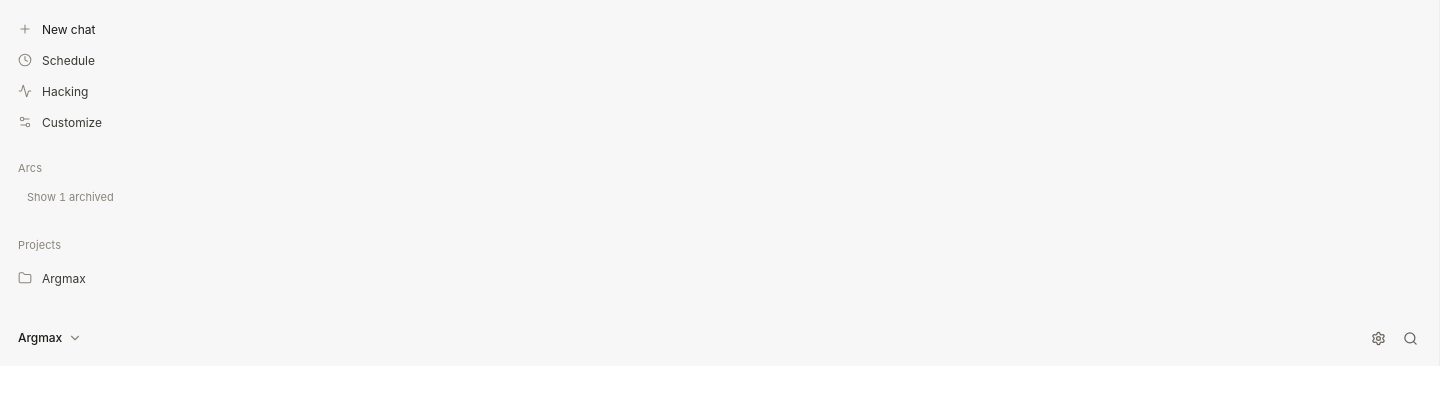
Scenario: Sidebar — Arcs section › keeps archived arcs behind a toggle at the foot of the list
expect the button "Pricing rollout" is not shown: met
Click the button "Show 1 archived": (70, 197) x1=14 y1=186 x2=1425 y2=210
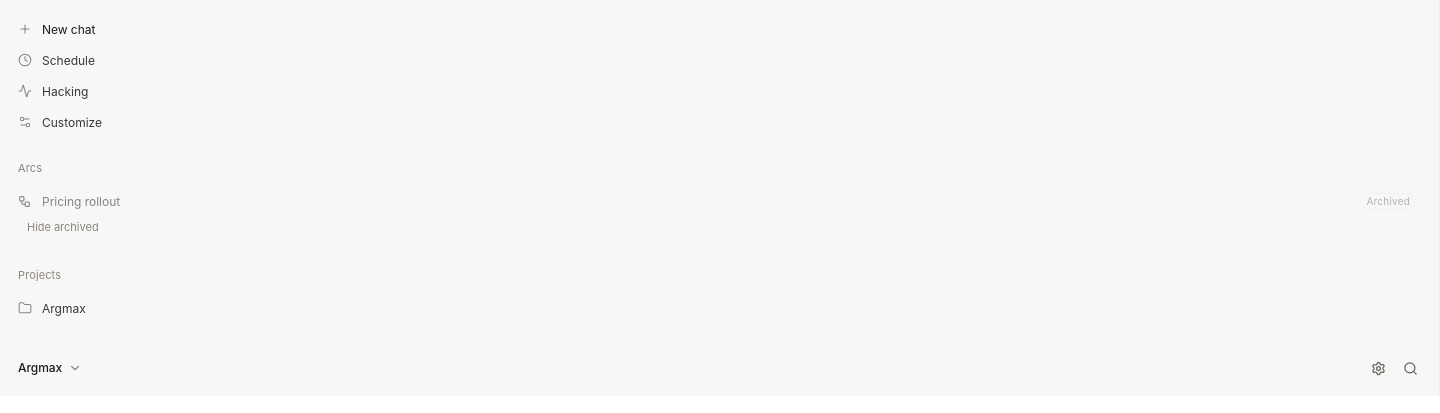
expect the button "Pricing rollout Archived" is shown: met, box x1=8 y1=186 x2=1425 y2=216
